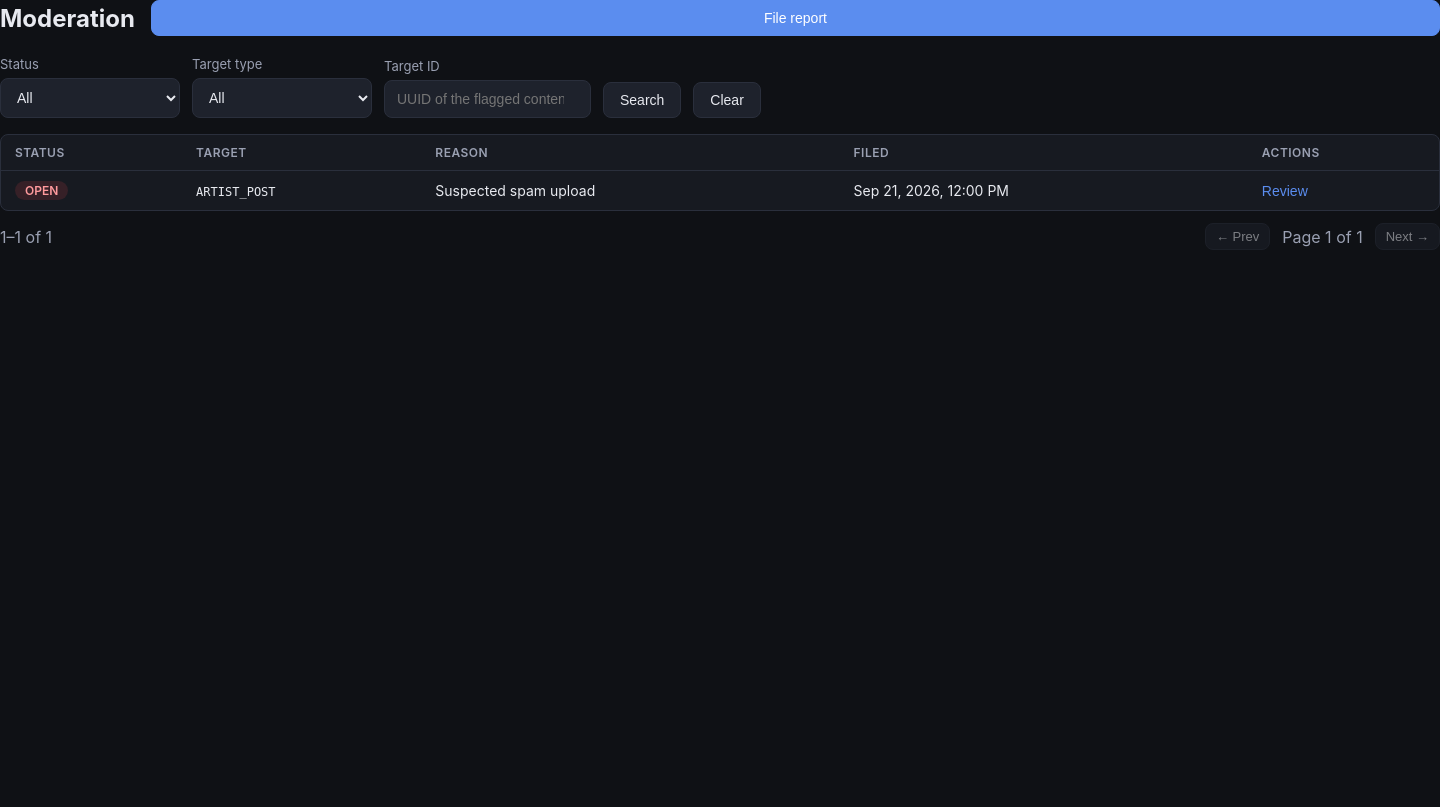
community content moderation (Phase 29) › shows the reported post with safe author info and a Remove action
expect the text "Suspected spam upload" is shown: met, box x1=421 y1=170 x2=840 y2=210
Click the button with aria-label "Review report report-p1": (1285, 191) x1=1262 y1=183 x2=1308 y2=199
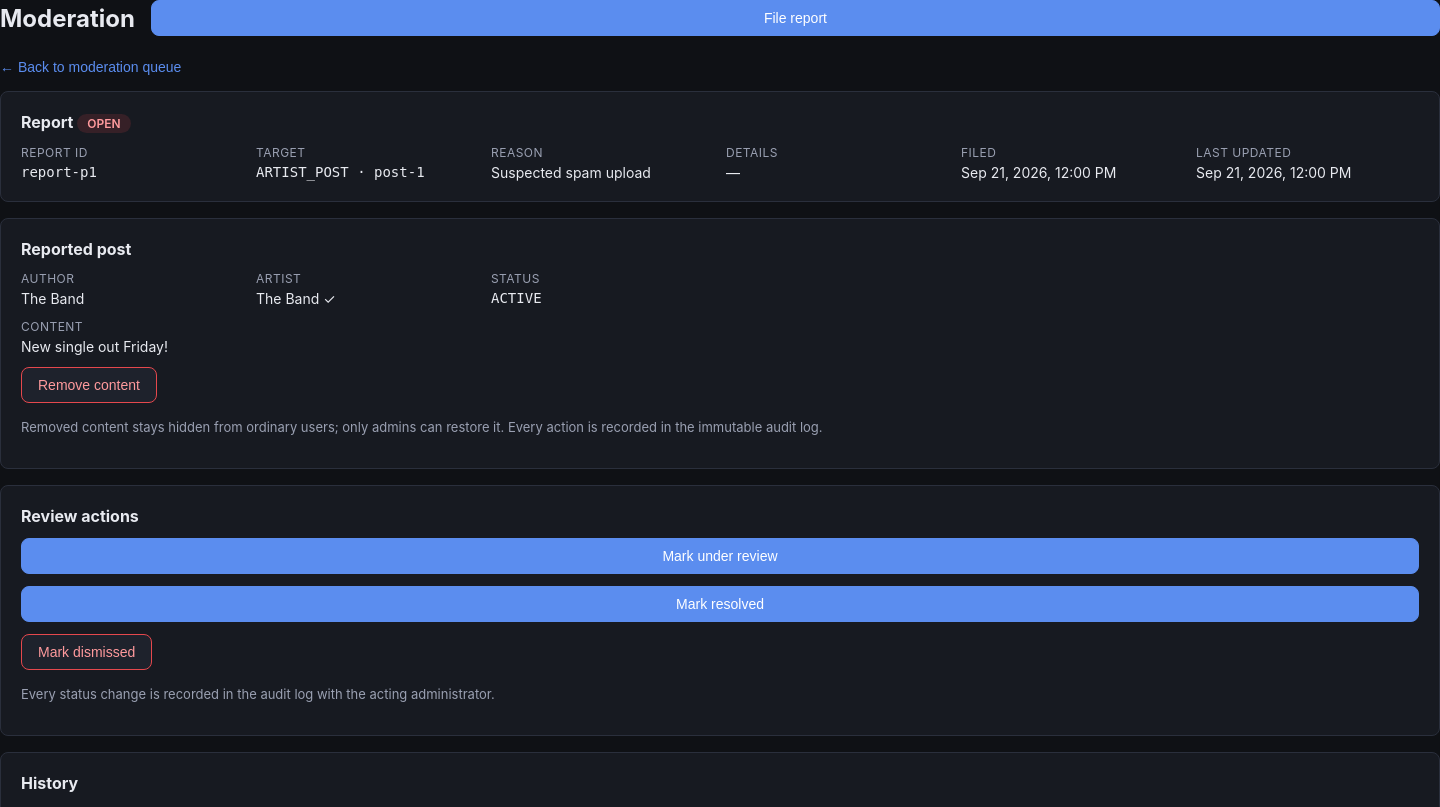
expect the heading "Reported post" is shown: met, box x1=21 y1=239 x2=131 y2=259
expect the text "New single out Friday!" is shown: met, box x1=21 y1=338 x2=168 y2=355
expect the text "The Band ✓" is shown: met, box x1=256 y1=290 x2=336 y2=307
